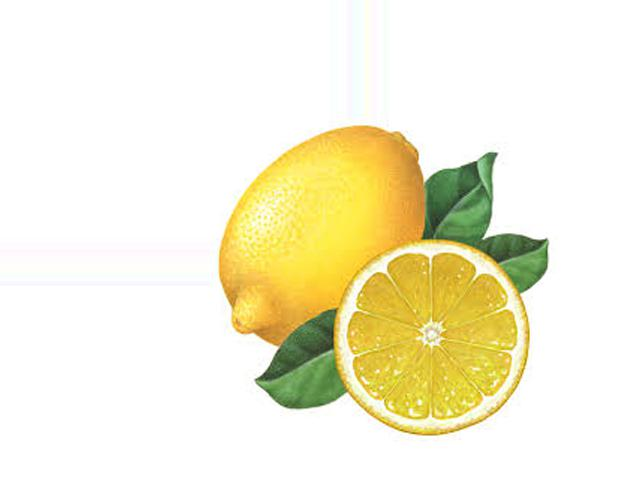lemon: (222, 125, 435, 350)
